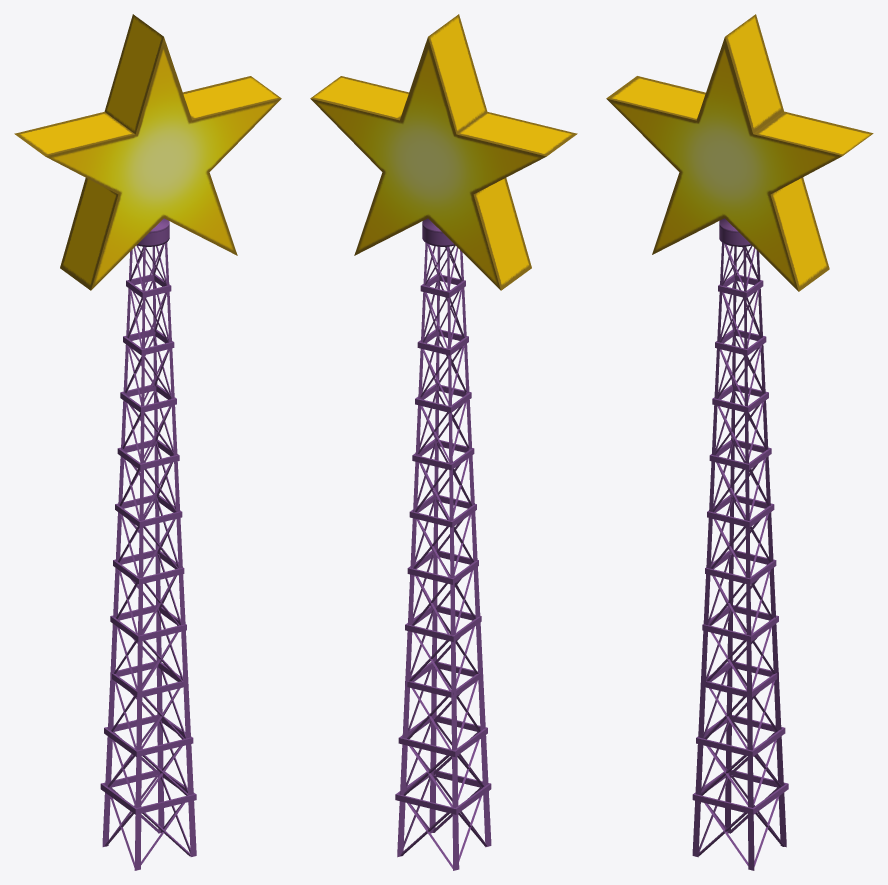
Rendered from BigWand.obj.
3 renders of one model, left to right at view 1: azimuth 30°, elevation 25°; view 2: azimuth 150°, elevation 25°; view 3: azimuth 330°, elevation 25°, orthographic.
Parts seen in each view (by area): view 1: Cylinder; view 2: Cylinder; view 3: Cylinder.
Boxes of the visible parts, x1,y1,x2,y2 form: Cylinder: [14, 14, 281, 870]; Cylinder: [310, 14, 577, 870]; Cylinder: [606, 14, 873, 870].
Bounding box in the file's own units: 4.41 × 14.69 × 1.15.
